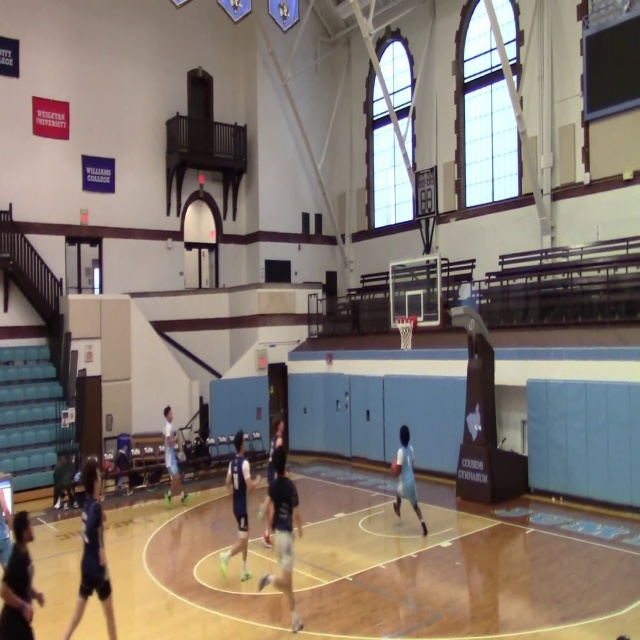Basketball: (390, 462, 401, 475), (102, 459, 112, 472)
